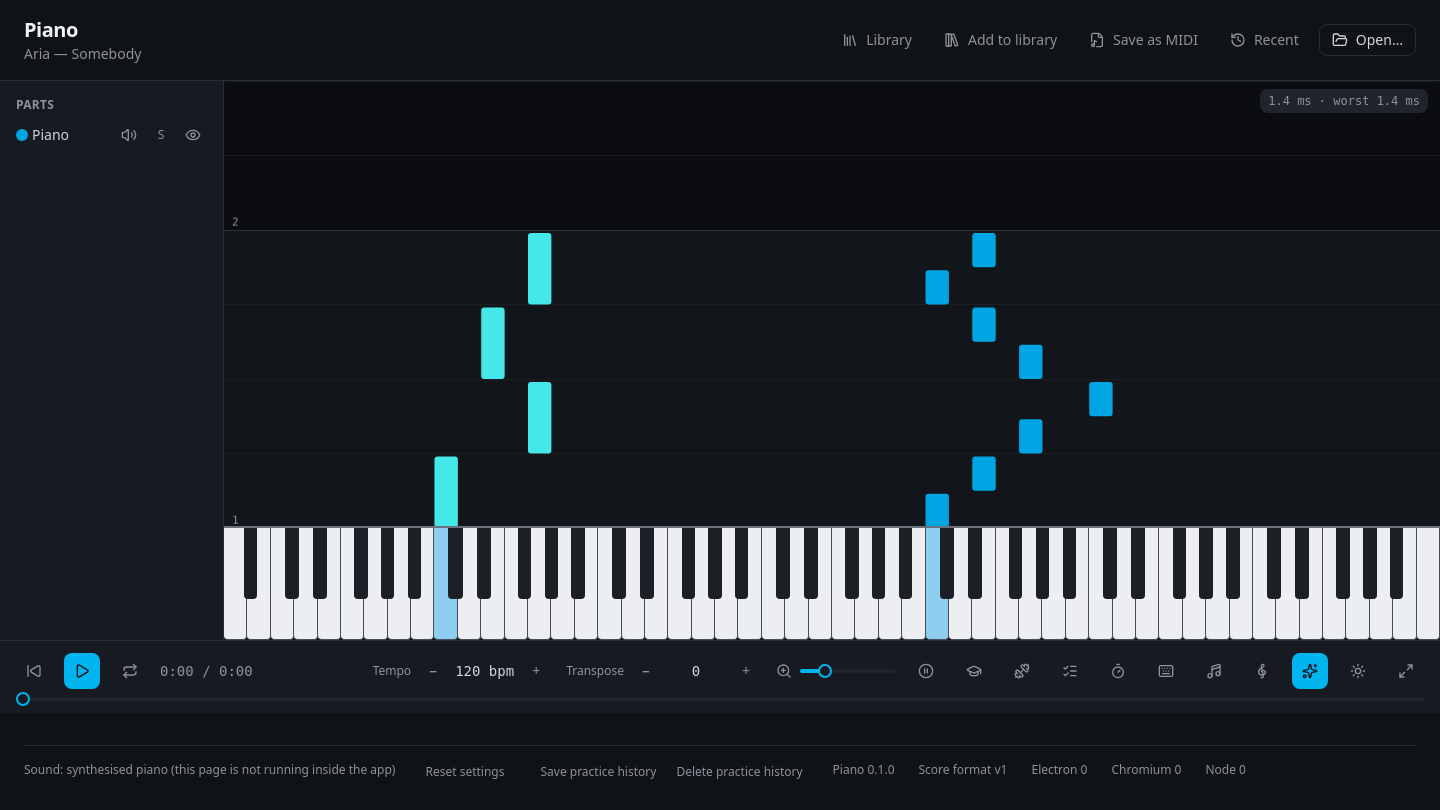
putting the open piece in the library › asks before replacing a piece already filed under that id, and files beside it
Click the button "Add to library" at [1001, 40], box [932,24,1069,56]
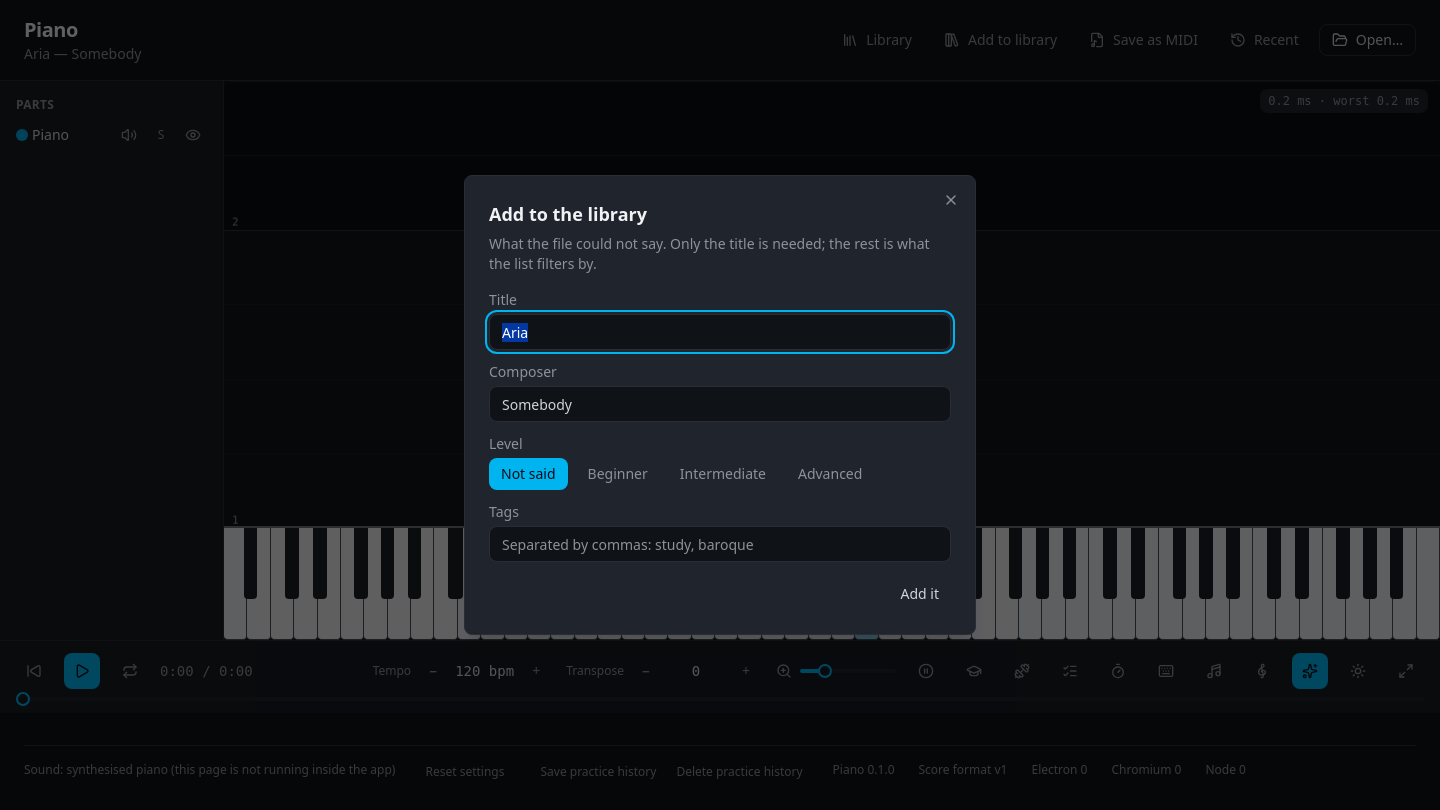
Click the button "Add it" at [920, 594], box [888,578,951,610]
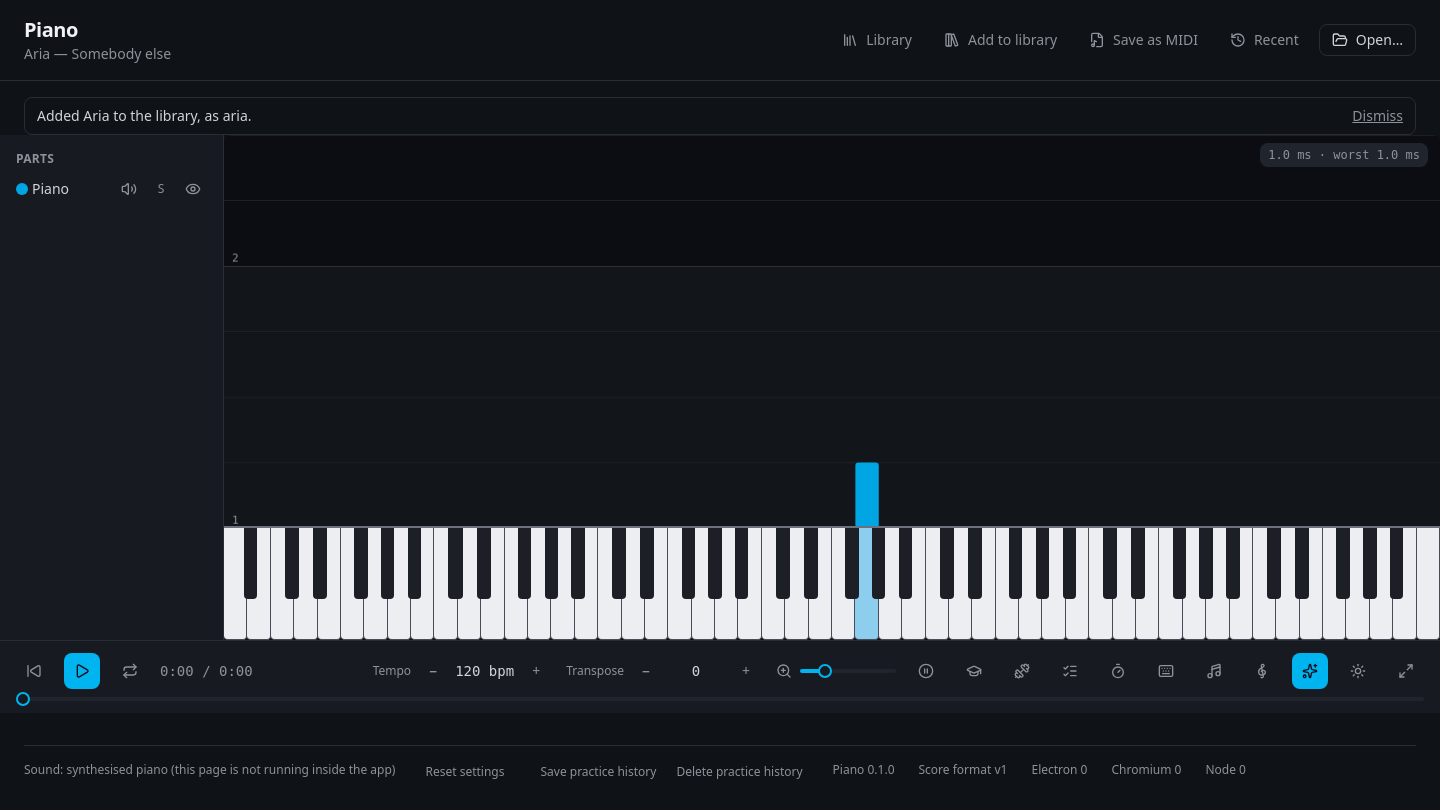
Click the button "Add to library" at [1001, 40], box [932,24,1069,56]
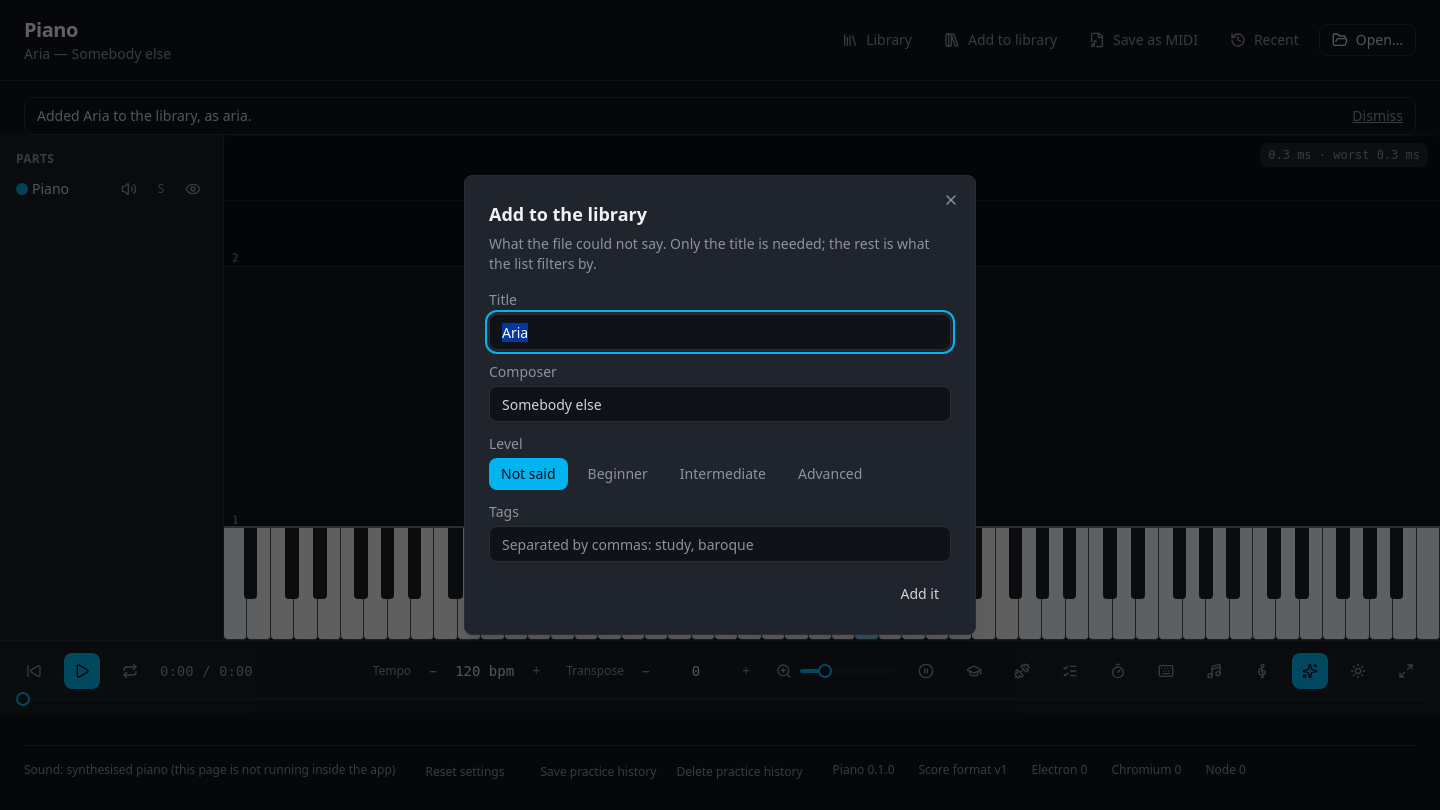
Click the button "Add it" at [920, 594], box [888,578,951,610]
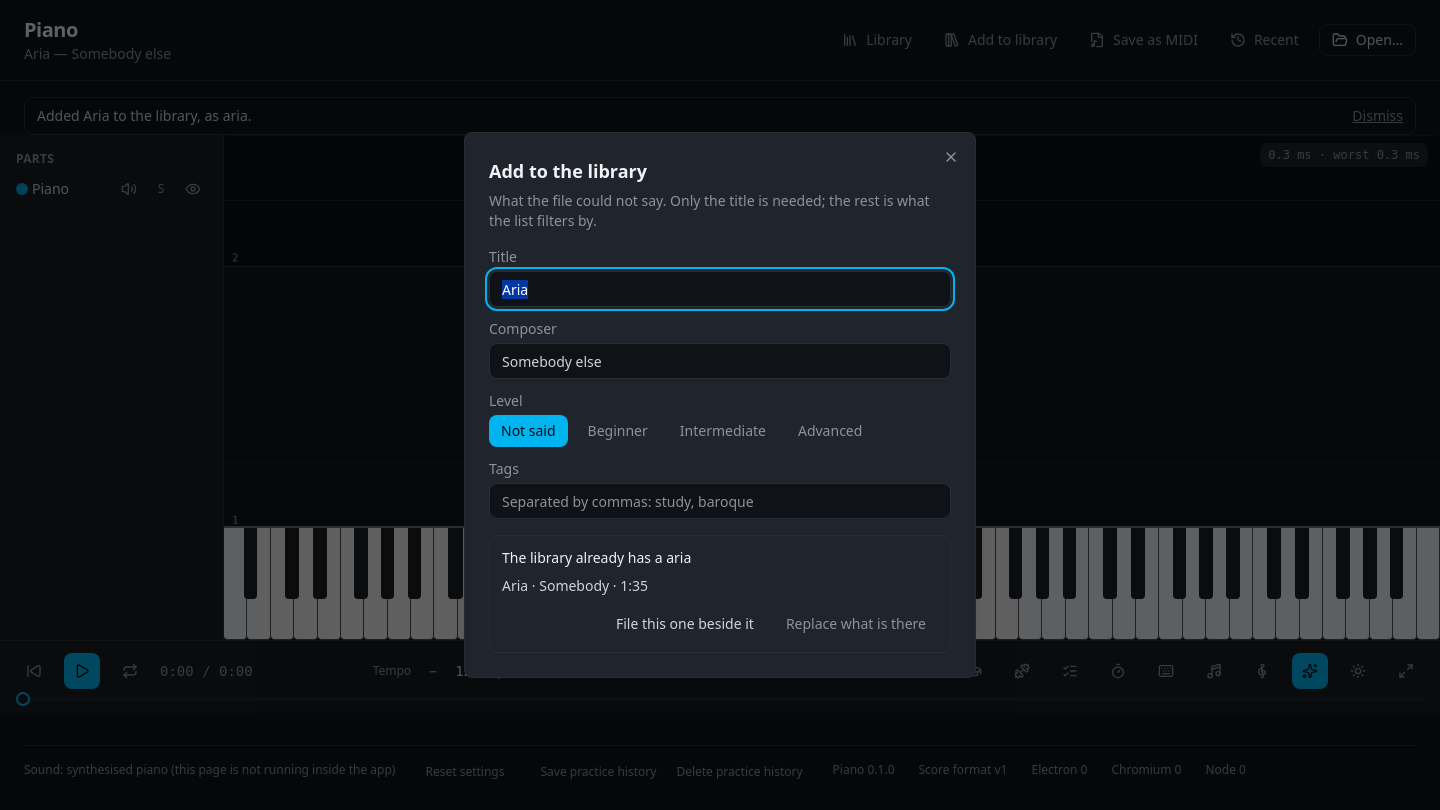
Check: the field labelled "Composer" is shown, box [489,343,951,379]
Check: the text "The library already has a aria" is shown, box [502,548,691,567]
Check: the text "Aria · Somebody · 1:35" is shown, box [502,576,648,595]
Click the button "File this one beside it" at [685, 624], box [604,608,766,640]
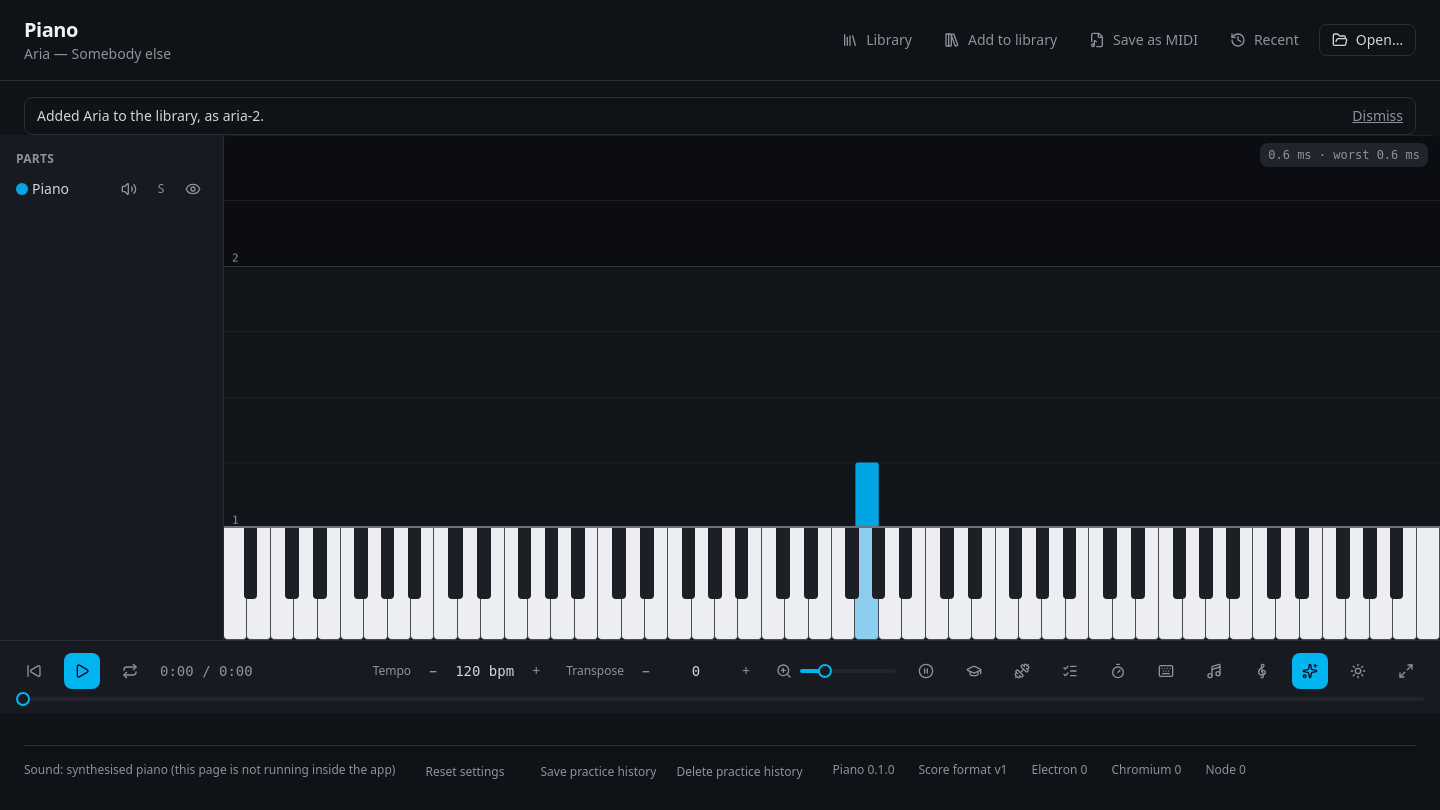
Check: the text "Added Aria to the library, as aria-2. Dismiss" is shown, box [24,97,1416,135]
